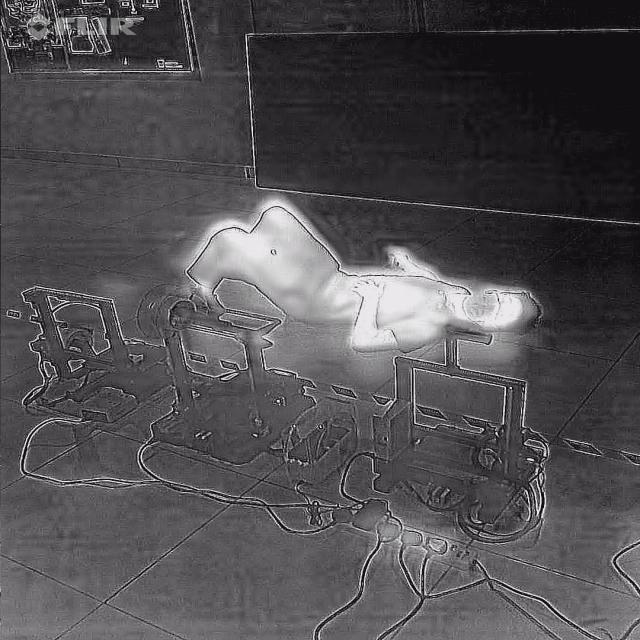Victim: (171, 199, 548, 360)
